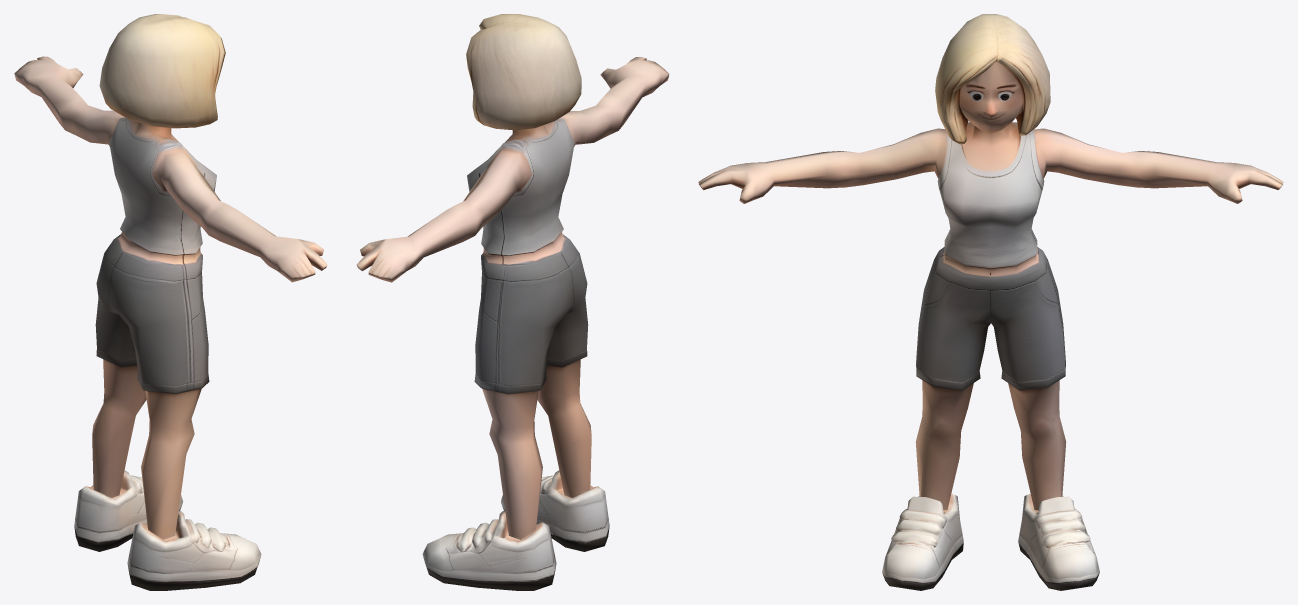
3 renders of one model, left to right at view 1: azimuth 30°, elevation 25°; view 2: azimuth 150°, elevation 25°; view 3: azimuth 270°, elevation 25°, orthographic. The views are drawn at different scales.
Parts seen in each view (by area): view 1: tripo_node_b7497471-ca86-4122-8885-2c23880ffd55; view 2: tripo_node_b7497471-ca86-4122-8885-2c23880ffd55; view 3: tripo_node_b7497471-ca86-4122-8885-2c23880ffd55.
Boxes of the visible parts, box(x1,y1,x2,y2) form: tripo_node_b7497471-ca86-4122-8885-2c23880ffd55: box(14, 14, 327, 590); tripo_node_b7497471-ca86-4122-8885-2c23880ffd55: box(356, 14, 669, 590); tripo_node_b7497471-ca86-4122-8885-2c23880ffd55: box(698, 14, 1283, 590).
Size of the model in its own units: 0.2241 by 0.9995 by 0.9751.
1 material, 1 textured.
